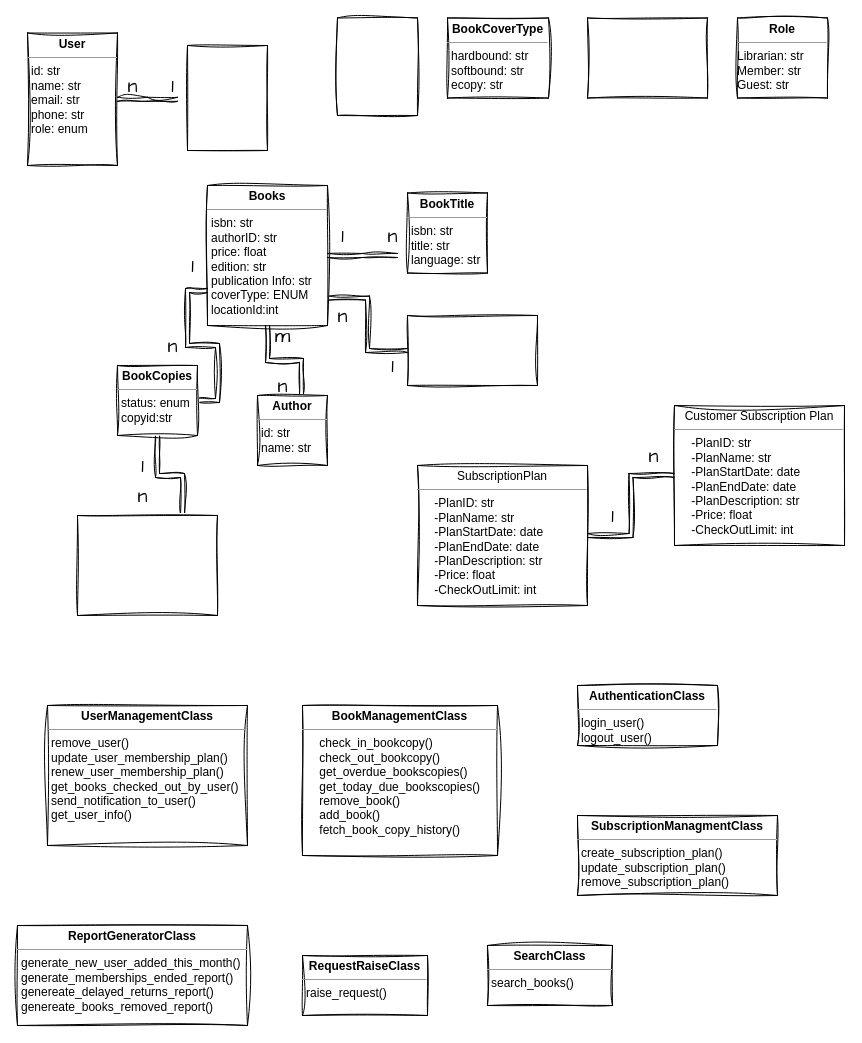
Image size: 862x1043. Some labels were removed from this diagram. The centre of each missing label's shape, as x and y in pixels:
Address userId: str street: str city: str state: str country: str pin: str: point 227,97
BookCopyHistory copyId: str isbn: str borrowerId: str checkedOutDate: date: point 147,565
BookCopyStatus available: str removed: str checkedout: str: point 647,57
BookGenre fantasy: str thriller: str drama: str comedy: str: point 377,66
Locations rack_id: int genre: enum: point 472,350
